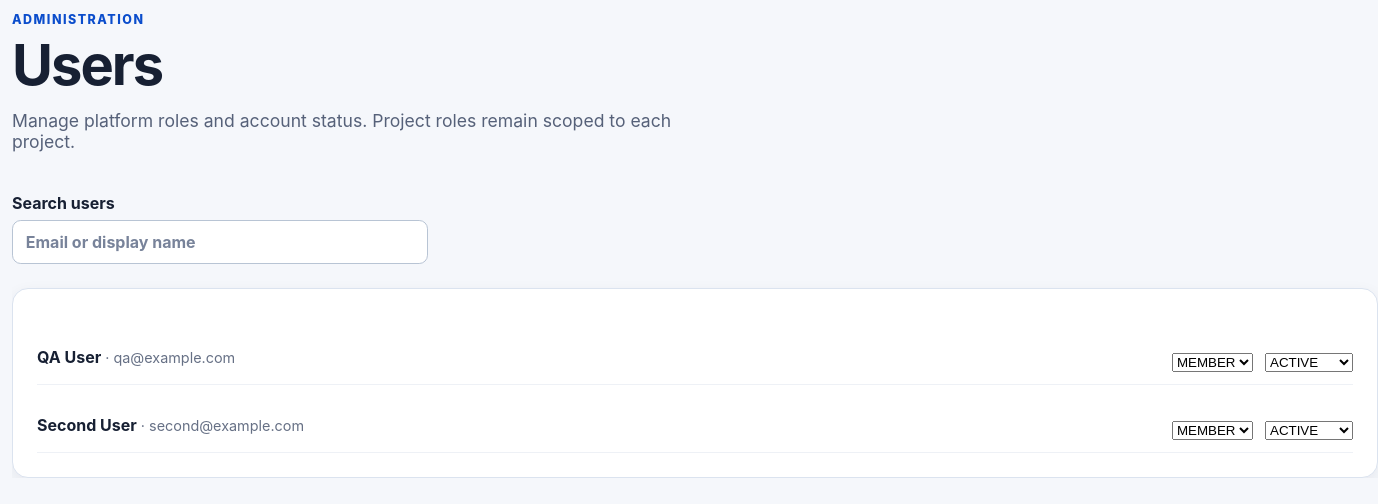
AdminUsersPage › keeps successful mutation feedback with the affected user row
The width and height of the screenshot is (1378, 504).
Select "ADMIN" in the dropdown named "Platform role for qa@example.com": (1212, 363) [1172, 353, 1253, 372]
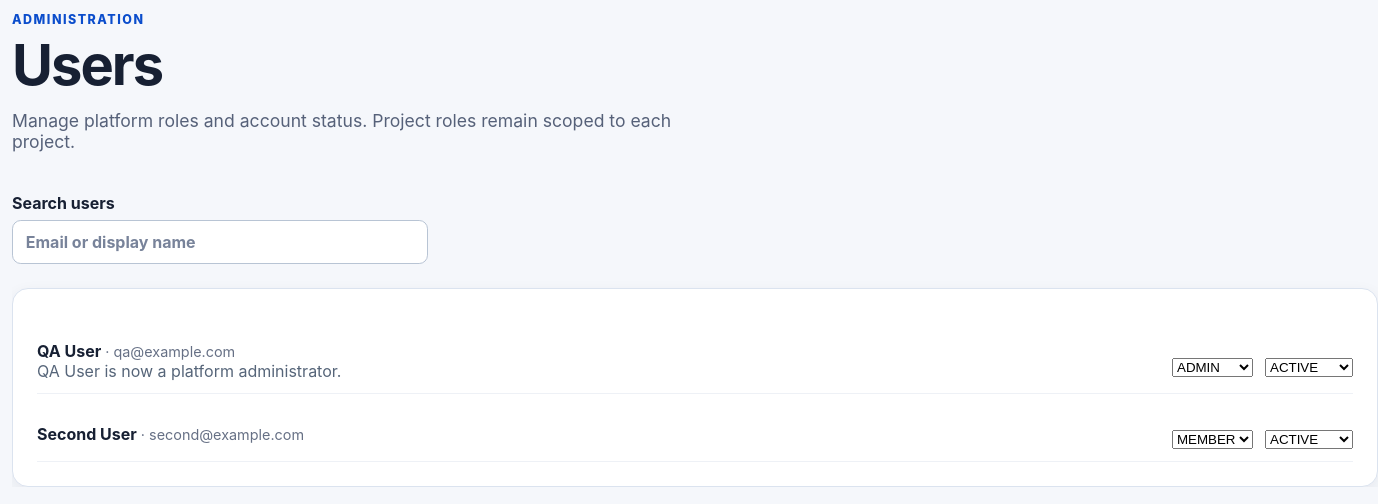
expect the list item "QA User" is shown: met, box [37, 341, 101, 361]
expect the message reads "QA User is now a platform administrator.": met, box [37, 361, 341, 381]
